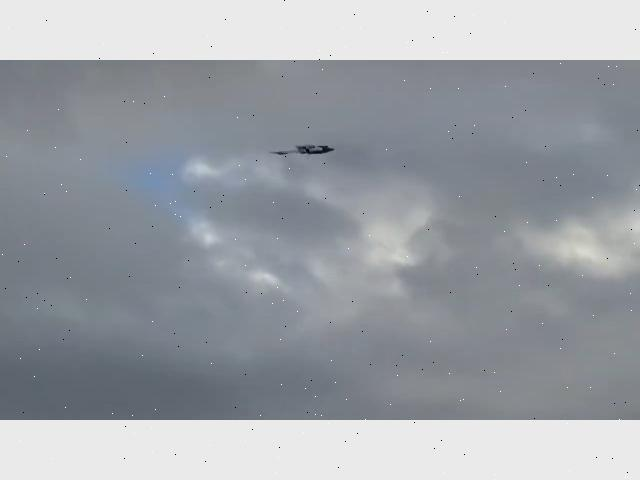Anti-Drone: (268, 142, 336, 158)
